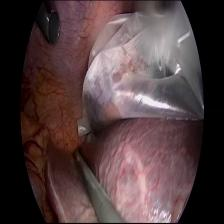Irrigator: (68, 143, 86, 171)
Specimen Bag: (76, 2, 210, 138)
